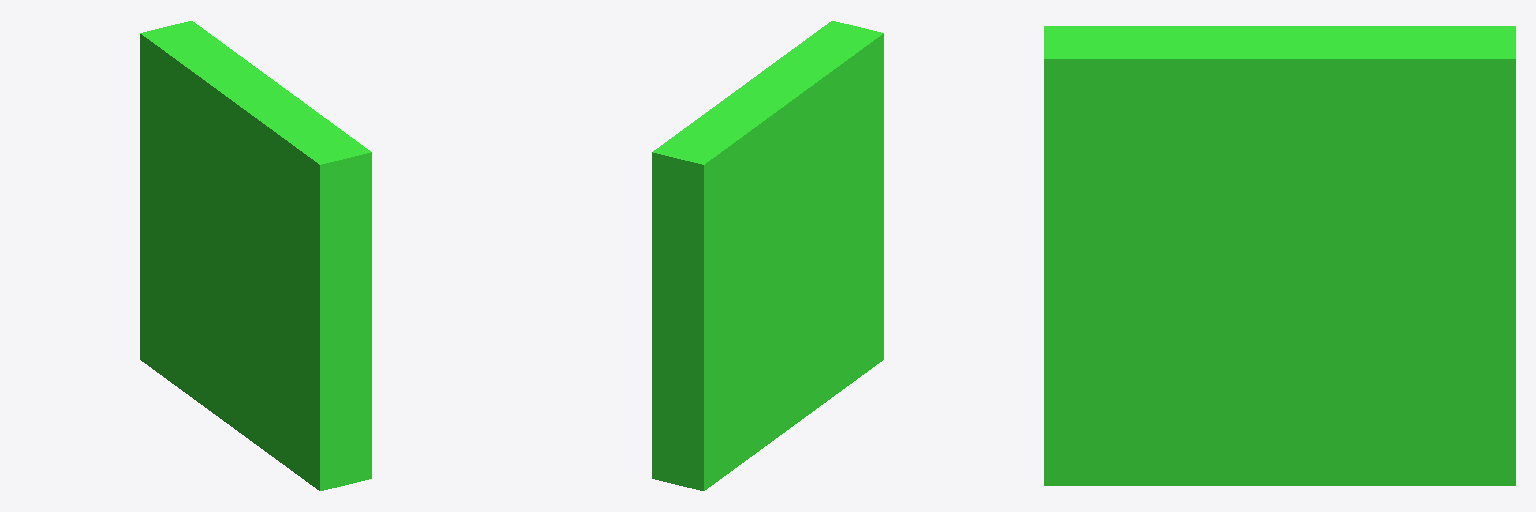
URDF robot description (CubeLifeSize_v2_60_10):
<robot name="CubeLifeSize_v2_60_10">
	<link name="object">
		<visual>
			<origin rpy="0.0 0.0 0.0" xyz="0.0 0.0 -0.6" />
			<geometry>
				<mesh filename="CubeLifeSize_v2_60_10/CubeLifeSize_v2_60_10.obj" scale="0.02 0.02 0.02" />
			</geometry>
			<material name="texture">
				<color rgba="0.3 1.0 0.3 1.0" />
			</material>
		</visual>
		<collision>
			<origin rpy="0.0 0.0 0.0" xyz="0.0 0.0 -0.6" />
			<geometry>
				<mesh filename="CubeLifeSize_v2_60_10/CubeLifeSize_v2_60_10_vhacd.obj" scale="0.02 0.02 0.02" />
			</geometry>
		</collision>
		<inertial>
			<mass value="0.020" />
			<inertia ixx="1.0" ixy="0.0" ixz="0.0" iyy="1.0" iyz="0.0" izz="1.0" />
		</inertial>
	</link>
</robot>

--- Facts derived from the render (not from the file) ---
Views: 3 orthographic renders of the robot side by side, from view 1: azimuth 30°, elevation 25°; view 2: azimuth 150°, elevation 25°; view 3: azimuth 270°, elevation 25°.
Robot: CubeLifeSize_v2_60_10 — 1 links, 0 joints (none); root link object; default pose: every joint at zero.
Links seen in each view (by area): view 1: object; view 2: object; view 3: object.
Boxes of the visible links, box(x1,y1,x2,y2) form: object: box(140, 21, 371, 490); object: box(652, 21, 883, 490); object: box(1044, 26, 1515, 485).
Bounding box of the posed robot: 0.2 × 1.2 × 1.2 m (x, y, z).
Meshes: 1 distinct files referenced, 1 mesh visuals loaded (1 OBJ).